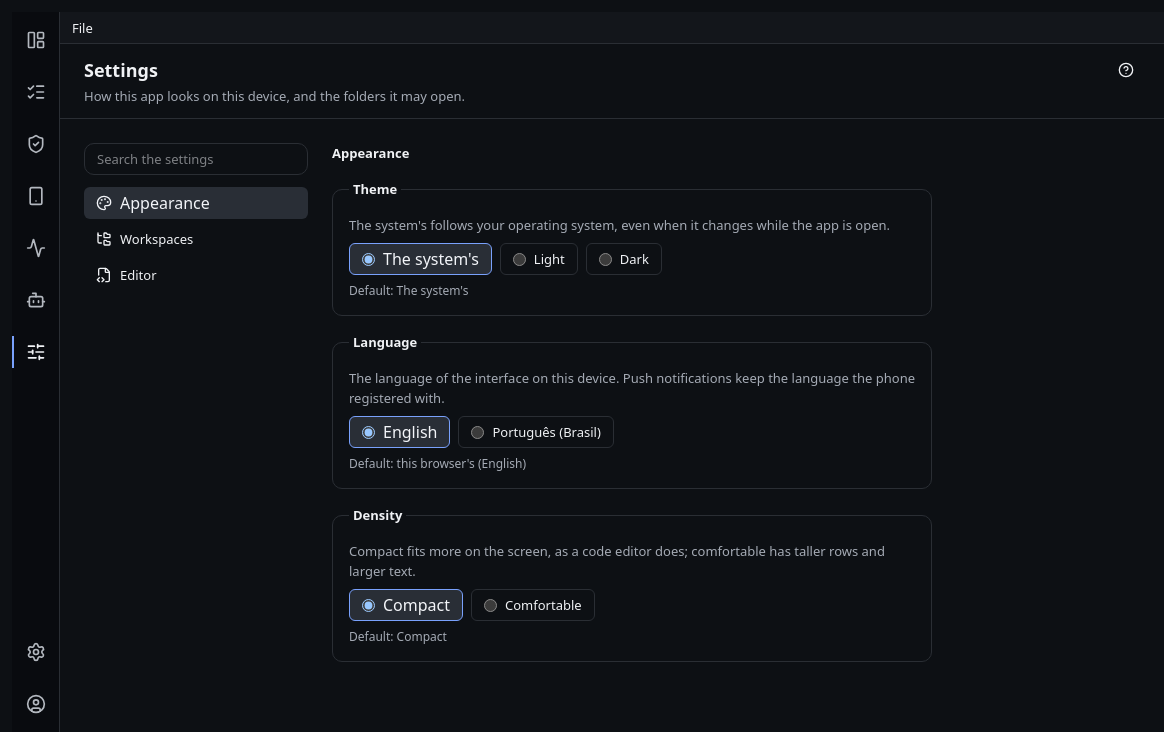
Test: the app’s Settings — plan 06, B-31 › Appearance › names every default, and offers "restore" only where the option moved — S-201
Click the radio button labelled "Light".
click(519, 259)  # box left=513, top=252, right=526, bottom=266
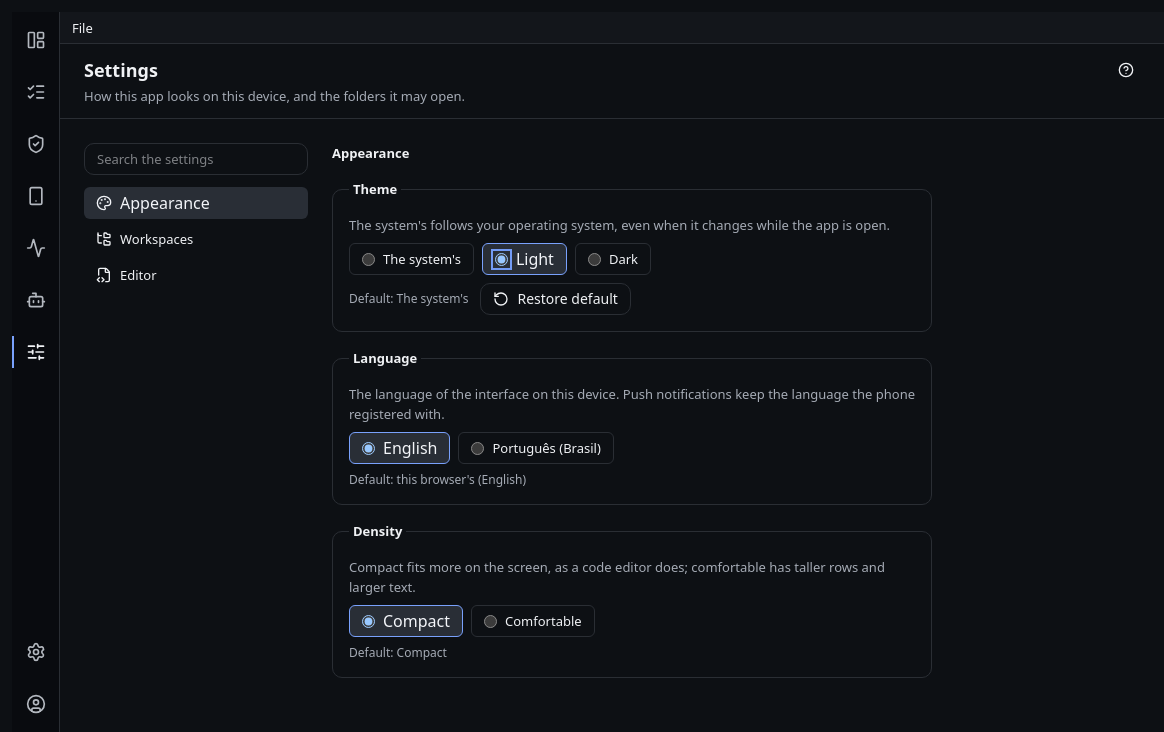
Click the button "Restore default".
click(556, 299)  # box left=480, top=283, right=631, bottom=315
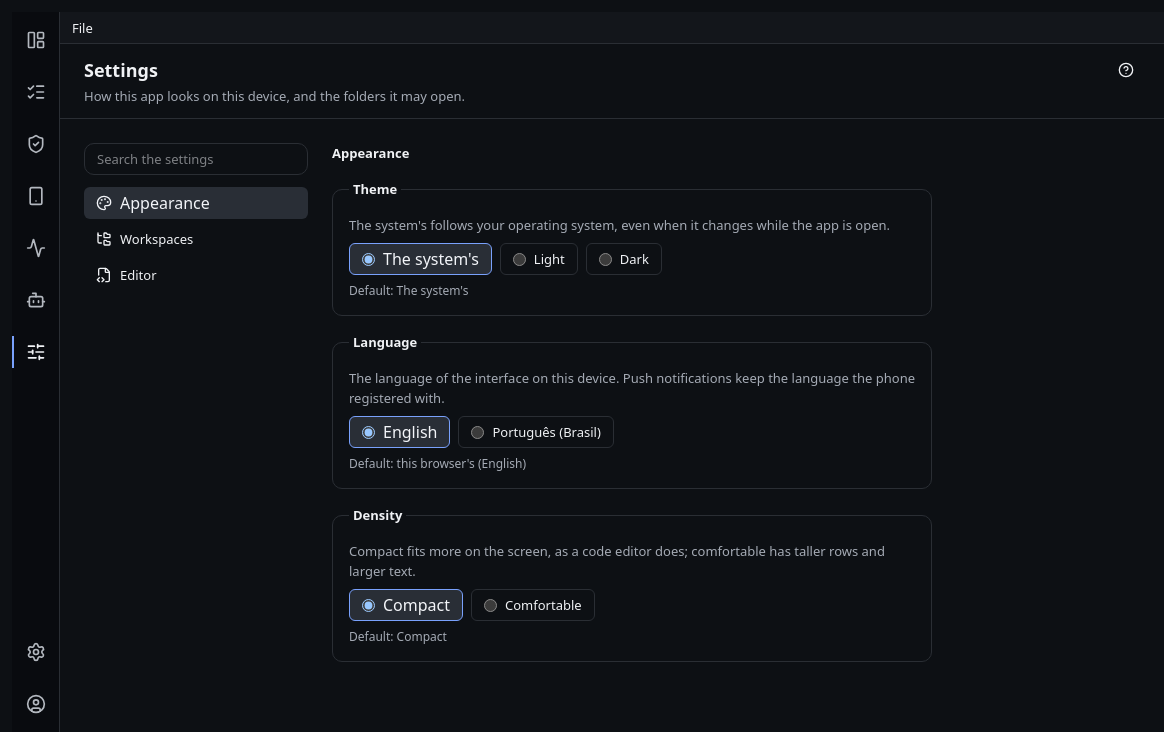
Result: the radio button labelled "The system's" is checked at left=362, top=252, right=375, bottom=266
Result: the button "Restore default" is gone
